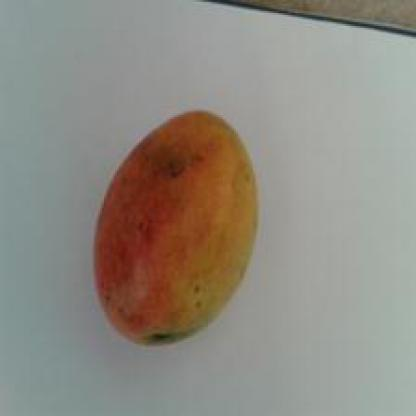mango: (91, 108, 260, 351)
